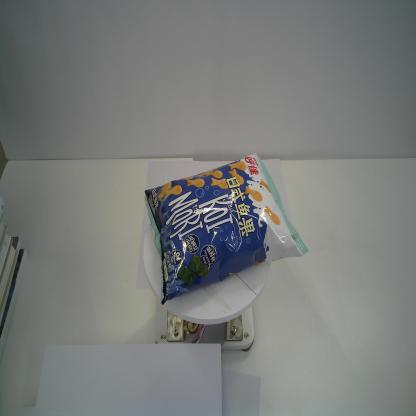Puffed Food: (144, 151, 309, 306)
